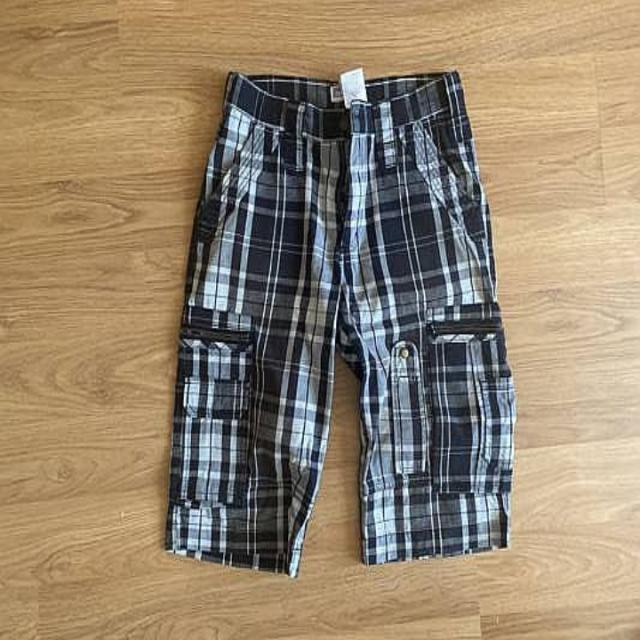TROUSER: (151, 57, 526, 586)
